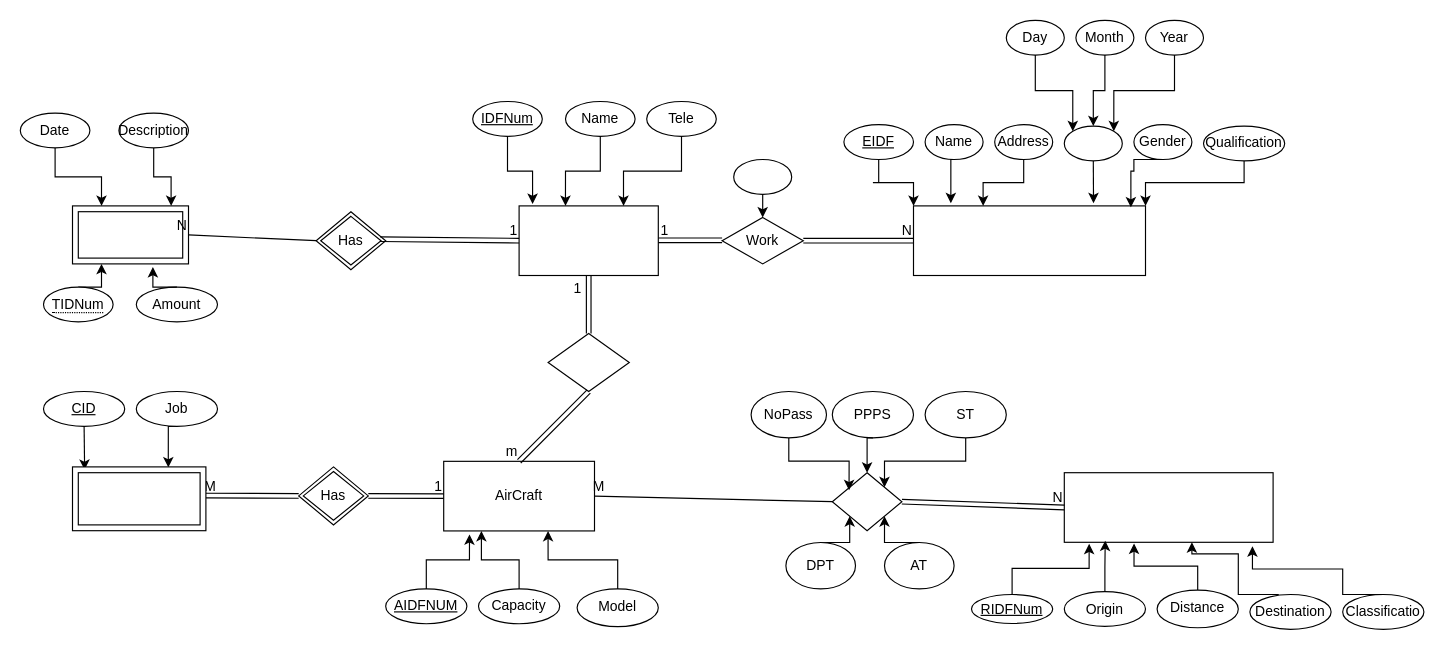
The diagram is 1444 pixels wide and 650 high, and some of its shapes have lost their labels. Each missing label, with the centre of its shape:
"Airline" belongs at (x=588, y=240).
"Assign" belongs at (x=866, y=501).
"BD" belongs at (x=1092, y=143).
"Crew" belongs at (x=138, y=498).
"Employee" belongs at (x=1029, y=240).
"Own" belongs at (x=588, y=362).
"Position" belongs at (x=762, y=176).
"Route" belongs at (x=1168, y=507).
"Trans" belongs at (x=129, y=234).
